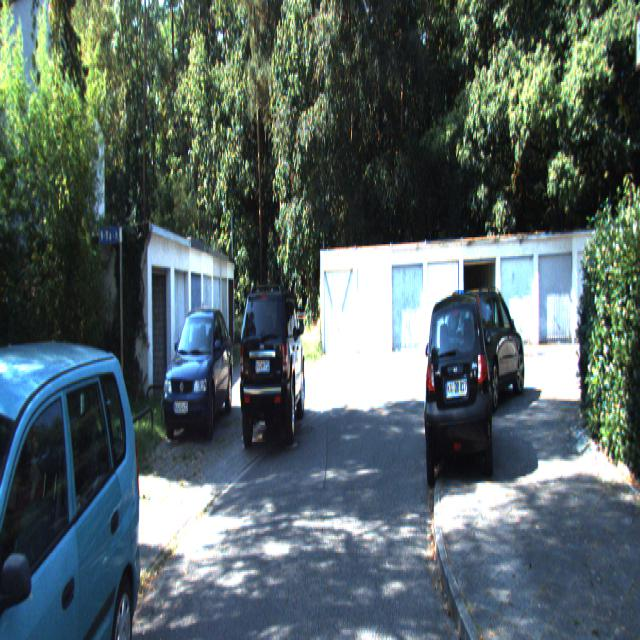Car: (0, 327, 150, 639), (426, 292, 492, 490), (442, 278, 526, 413), (238, 281, 305, 443), (162, 309, 232, 444)
